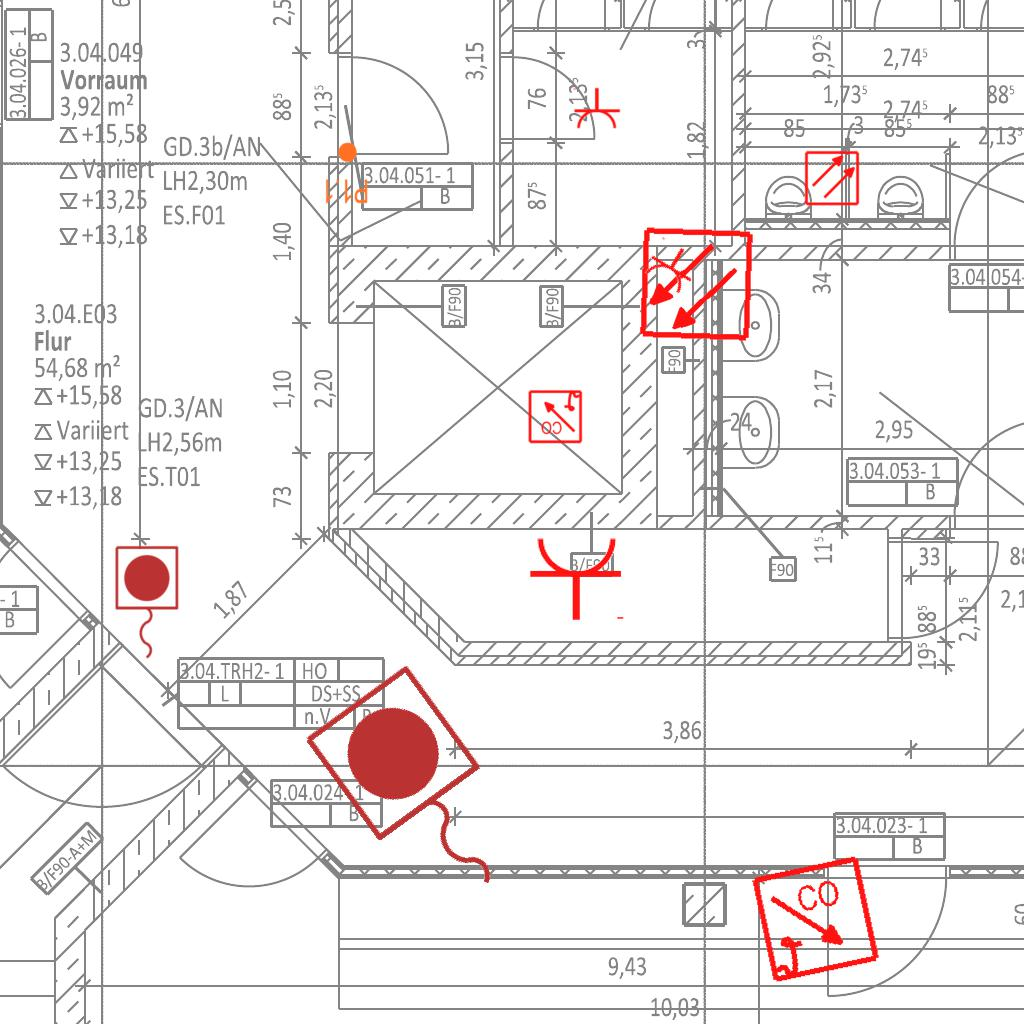Downlight_LED_Einbauleuchten_Flur: (323, 141, 369, 205)
RMO_Rauchmelder_optischer: (638, 226, 755, 343), (804, 150, 860, 206)
ROA_Rauchmelder_optisch_mit_Signalgeber_(Sockelsirene): (749, 853, 884, 988), (527, 388, 583, 444)
Schukosteckdose_einfach: (528, 535, 628, 622), (638, 234, 705, 298), (571, 87, 621, 130)
Zugtaster: (291, 653, 551, 937), (110, 542, 182, 664)
